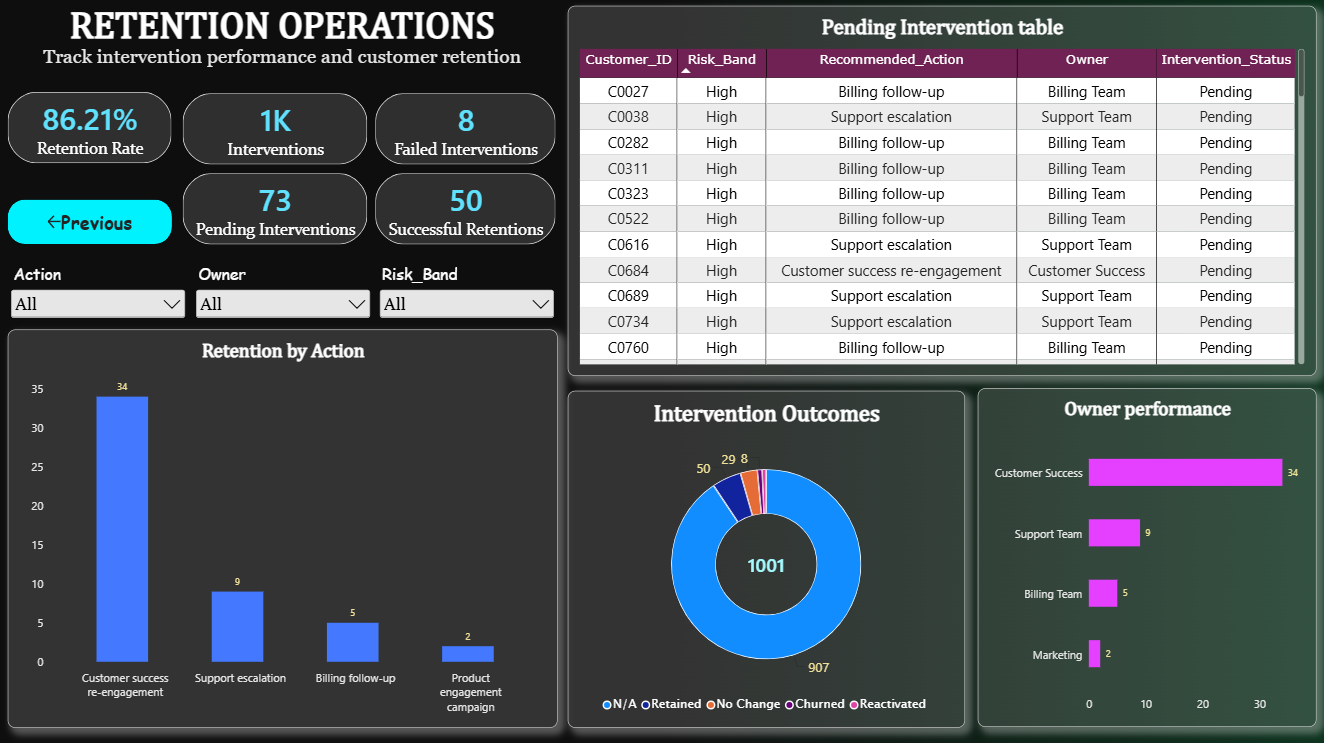

The page's visual inventory and layout, read from the dashboard file:
{"tool":"powerbi","page":{"name":"Retention Operations","canvas":[1920,1080],"ordinal":3},"visuals":[{"type":"cardVisual","fields":{"Data":["Intervention_Data.Successful Retentions"]},"box":[545.5,255.1,261.7,103.2],"z":0},{"type":"cardVisual","fields":{"Data":["Intervention_Data.Interventions"]},"box":[265.4,139,267.2,103.2],"z":1000},{"type":"cardVisual","fields":{"Data":["Intervention_Data.Failed Interventions"]},"box":[545.5,139,261.7,103.2],"z":2000},{"type":"cardVisual","fields":{"Data":["Intervention_Data.Retention Rate"]},"box":[12.9,138.2,237.7,103.2],"z":3000},{"type":"cardVisual","fields":{"Data":["Intervention_Data.Pending Interventions"]},"box":[265.4,255.1,267.2,103.2],"z":4000},{"type":"donutChart","title":"Intervention Outcomes","fields":{"Category":["Intervention_Data.Intervention_Outcome"],"Y":["Count(Intervention_Data.Customer_ID)"]},"box":[823.8,569.5,575,488.4],"z":5000},{"type":"clusteredColumnChart","title":"Retention by Action","fields":{"Category":["Intervention_Data.Recommended_Action"],"Y":["Intervention_Data.Successful Retentions"]},"box":[12.9,481,796.2,576.8],"z":6000},{"type":"barChart","title":"Owner performance","fields":{"Category":["Intervention_Data.Owner"],"Y":["Intervention_Data.Successful Retentions"]},"box":[1417.2,565.8,490.2,490.2],"z":7000},{"type":"tableEx","title":"Pending Intervention table","fields":{"Values":["Intervention_Data.Customer_ID","Intervention_Data.Risk_Band","Intervention_Data.Recommended_Action","Intervention_Data.Owner","Intervention_Data.Intervention_Status"]},"box":[823.8,12.9,1083.7,536.3],"z":8000},{"type":"slicer","fields":{"Values":["Intervention_Data.Owner"]},"box":[280.1,385.2,261.7,95.8],"z":9000},{"type":"slicer","fields":{"Values":["Intervention_Data.Risk_Band"]},"box":[547.4,385.2,261.7,95.8],"z":10000},{"type":"slicer","fields":{"Values":["Intervention_Data.Recommended_Action"]},"box":[12.9,385.2,261.7,95.8],"z":11000},{"type":"shape","title":"RETENTION OPERATIONS","box":[5.5,12.9,809.1,99.5],"z":12000},{"type":"actionButton","box":[12.9,293,237.7,64.5],"z":13000}]}

Visuals, with their boxes in screenshot pixels (x1, y1, x2, y2), scaled from the page's 1920x1080 canvas onto the 1324x743 screenshot:
cardVisual - Intervention_Data.Successful Retentions: crop(376, 175, 557, 246)
cardVisual - Intervention_Data.Interventions: crop(183, 96, 367, 167)
cardVisual - Intervention_Data.Failed Interventions: crop(376, 96, 557, 167)
cardVisual - Intervention_Data.Retention Rate: crop(9, 95, 173, 166)
cardVisual - Intervention_Data.Pending Interventions: crop(183, 175, 367, 246)
"Intervention Outcomes" donutChart: crop(568, 392, 965, 728)
"Retention by Action" clusteredColumnChart: crop(9, 331, 558, 728)
"Owner performance" barChart: crop(977, 389, 1315, 726)
"Pending Intervention table" tableEx: crop(568, 9, 1315, 378)
slicer - Intervention_Data.Owner: crop(193, 265, 374, 331)
slicer - Intervention_Data.Risk_Band: crop(377, 265, 558, 331)
slicer - Intervention_Data.Recommended_Action: crop(9, 265, 189, 331)
"RETENTION OPERATIONS" shape: crop(4, 9, 562, 77)
actionButton: crop(9, 202, 173, 246)
